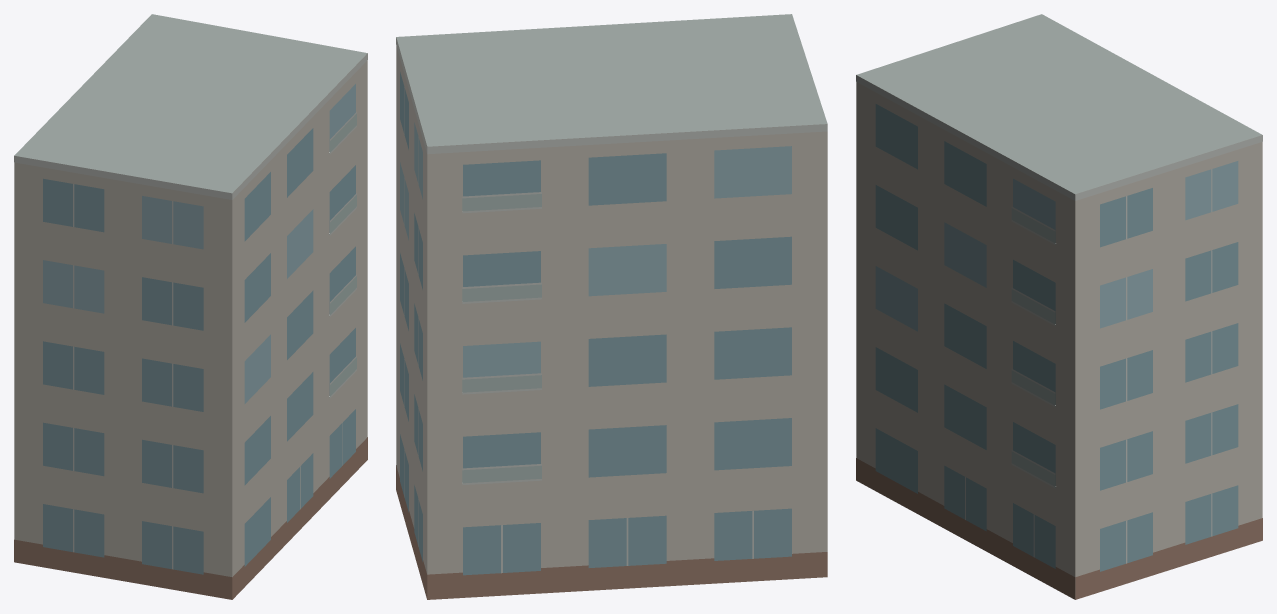
File: survey-upis-32933942.glb
3 views of the same model, side by side, from view 1: azimuth 30°, elevation 25°; view 2: azimuth 150°, elevation 25°; view 3: azimuth 270°, elevation 25° (orthographic). The views are drawn at different scales.
Parts seen in each view (by area): view 1: survey-upis-32933942.tmp; view 2: survey-upis-32933942.tmp; view 3: survey-upis-32933942.tmp.
Boxes of the visible parts, x1,y1,x2,y2 form: survey-upis-32933942.tmp: [14, 14, 367, 599]; survey-upis-32933942.tmp: [396, 14, 827, 599]; survey-upis-32933942.tmp: [856, 14, 1262, 599].
Bounding box in the file's own units: 14.02 × 14.7 × 13.37.
